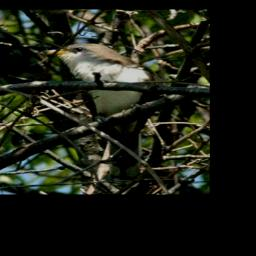Cuckoo: (36, 43, 164, 186)
